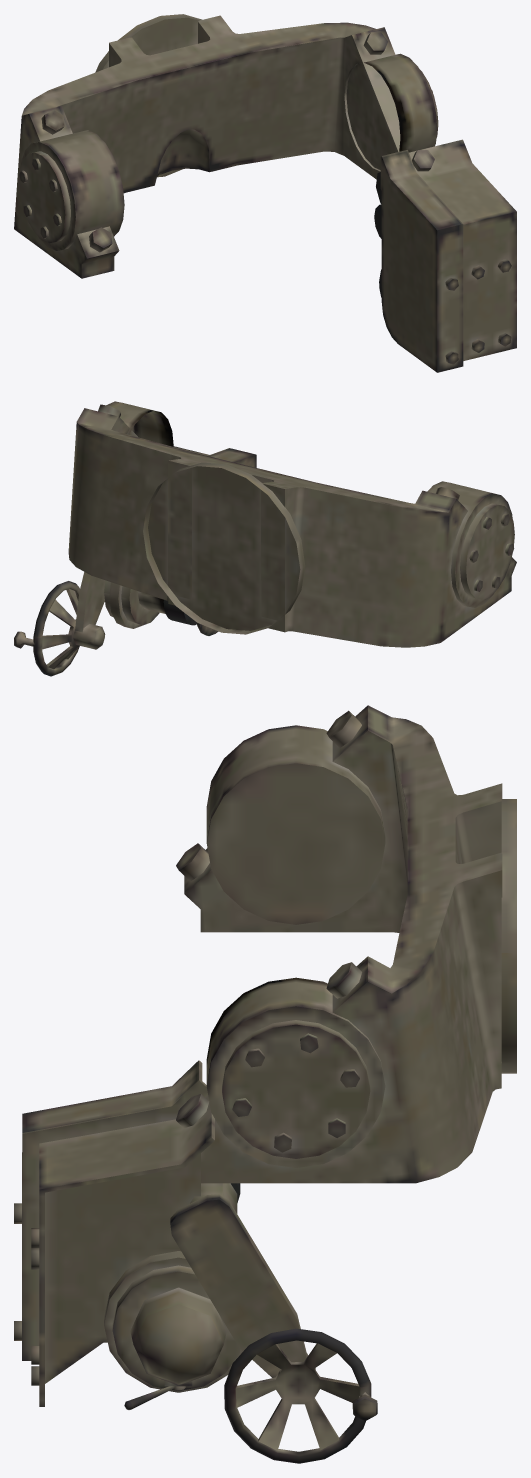
File: Turret_01.glb
3 renders of one model, top to bottom at view 1: azimuth 30°, elevation 25°; view 2: azimuth 150°, elevation 25°; view 3: azimuth 270°, elevation 25°, orthographic. The views are drawn at different scales.
Visible parts, largest first — view 1: set_0_group_0; view 2: set_0_group_0; view 3: set_0_group_0.
Part boxes in pixels (bbox=[...]): set_0_group_0: bbox=[14, 14, 516, 372]; set_0_group_0: bbox=[14, 401, 516, 676]; set_0_group_0: bbox=[14, 705, 516, 1463].
Bounding box in the file's own units: 1.08 × 0.7192 × 0.6843.
Materials: 1 (1 with a texture image).
